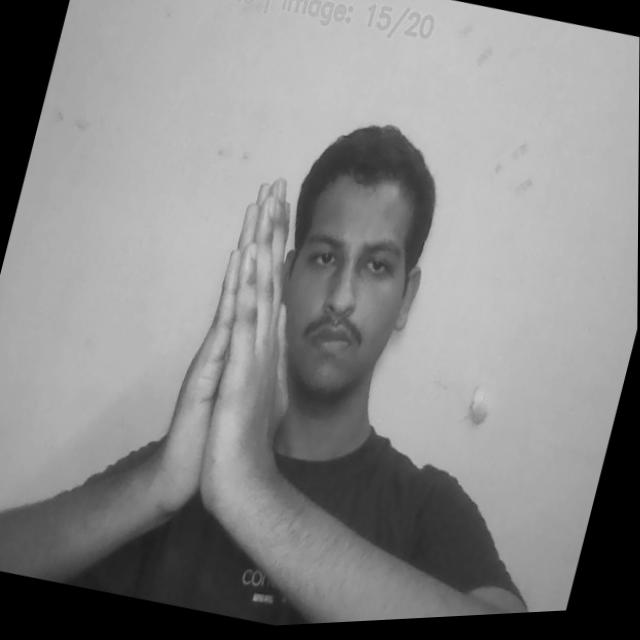Namaste: (145, 167, 329, 525)
